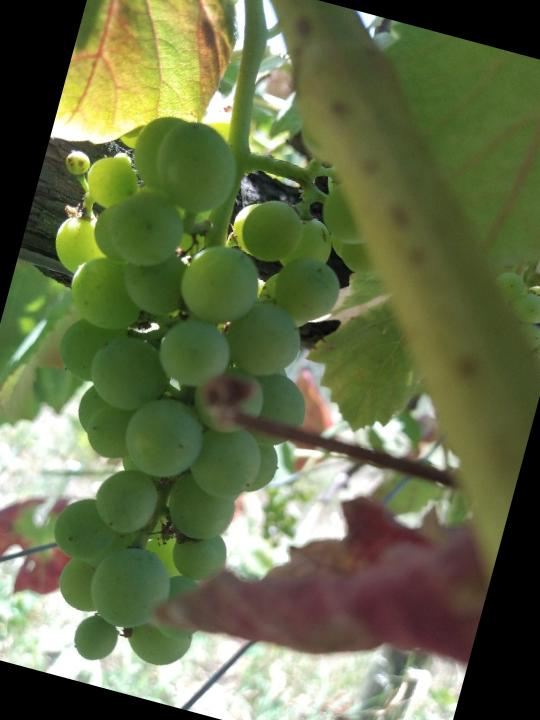grape: (0, 91, 373, 701)
